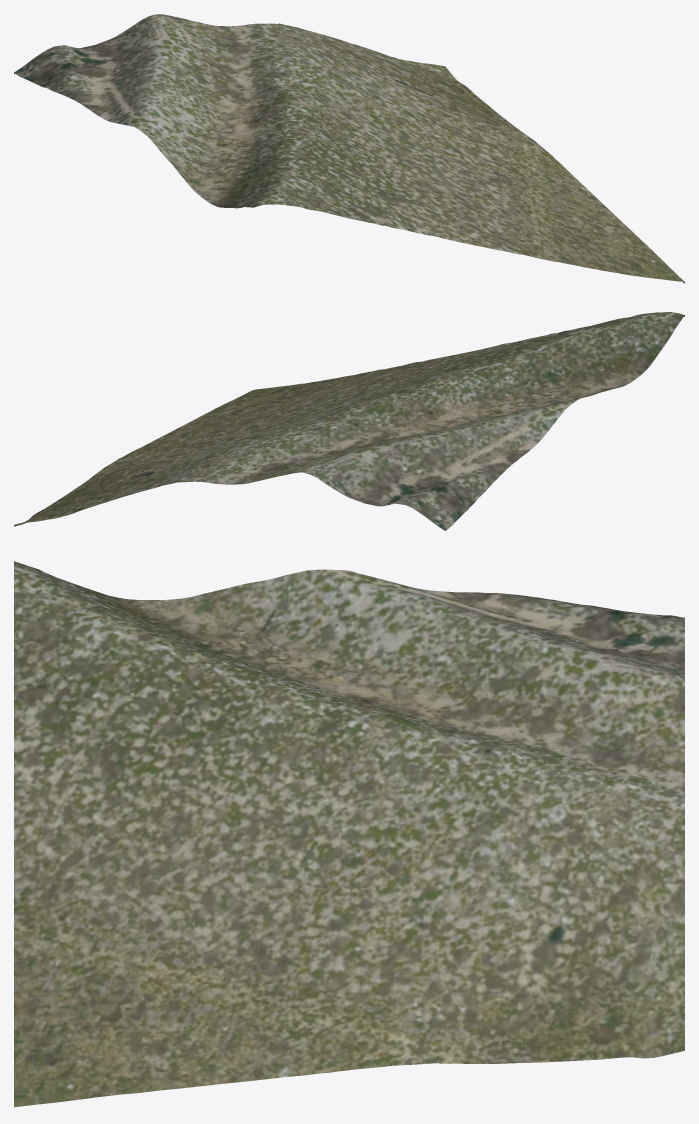
The picture shows the model from 3 angles, top to bottom: view 1: azimuth 30°, elevation 25°; view 2: azimuth 150°, elevation 25°; view 3: azimuth 270°, elevation 25°; orthographic projection. The views are drawn at different scales.
Bounding box in the file's own units: 250 × 101 × 241.
Materials: 1 (1 with a texture image).
